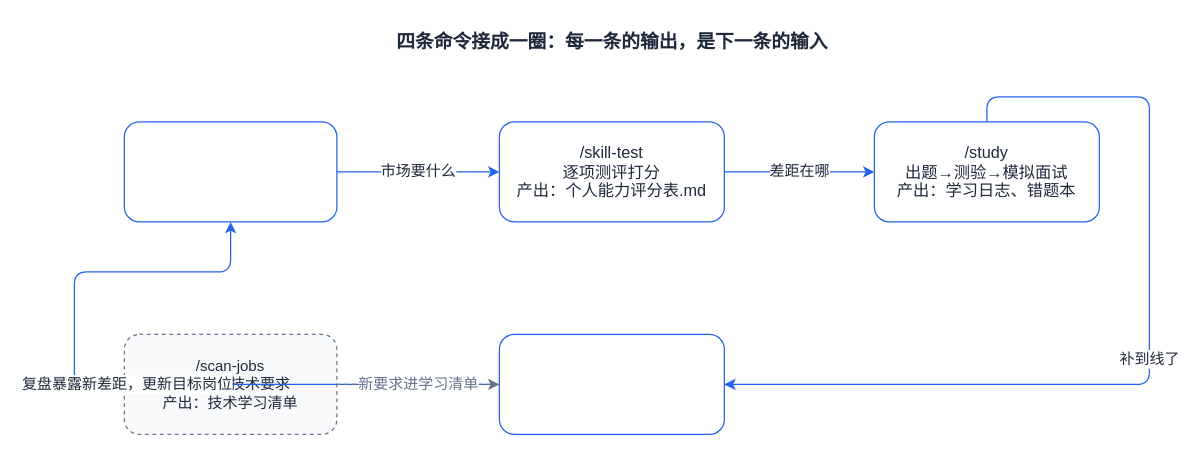
Some shapes in this 1200 by 456 pixel diagram are drawn without their labels. Here are the shapes that lost their labels. From the top down, the centre of each, then its label:
point 230,171: /find-jobs 扫 8 个平台岗位 产出：岗位列表.md
point 611,383: /interview-prep 按 JD 生成备战材料 产出：复盘与话术卡
